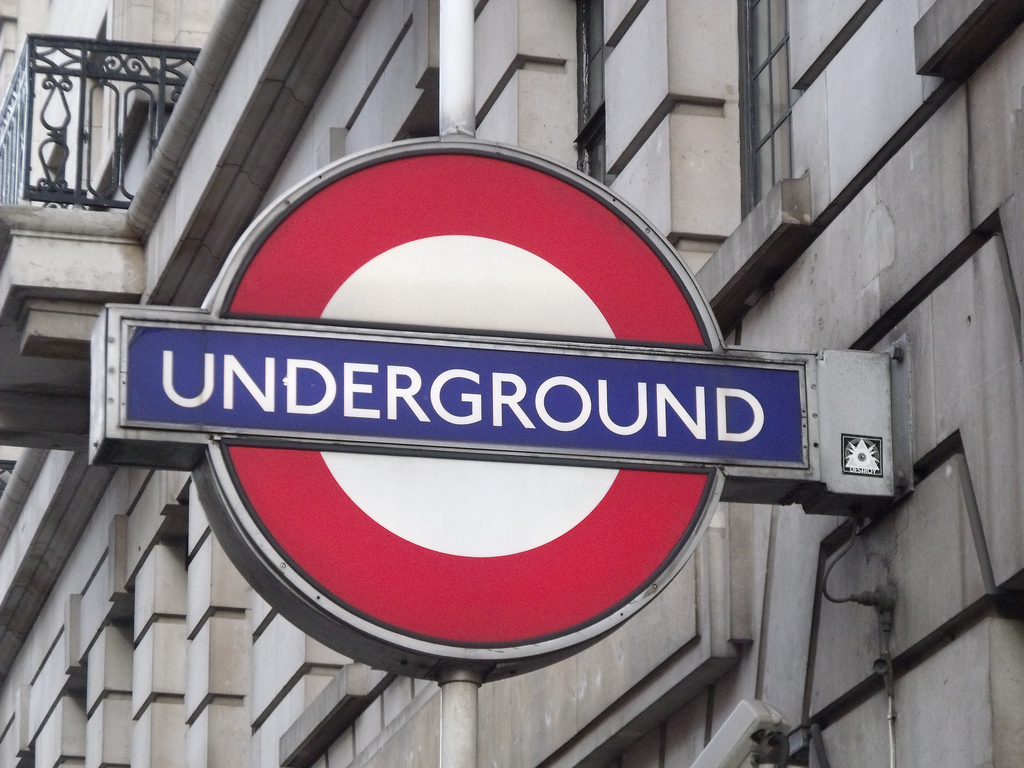London Underground: (111, 158, 807, 664)
